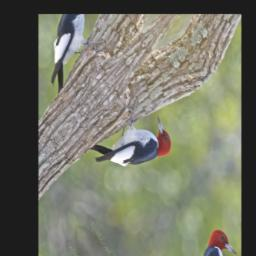Woodpecker: (86, 84, 179, 208)
